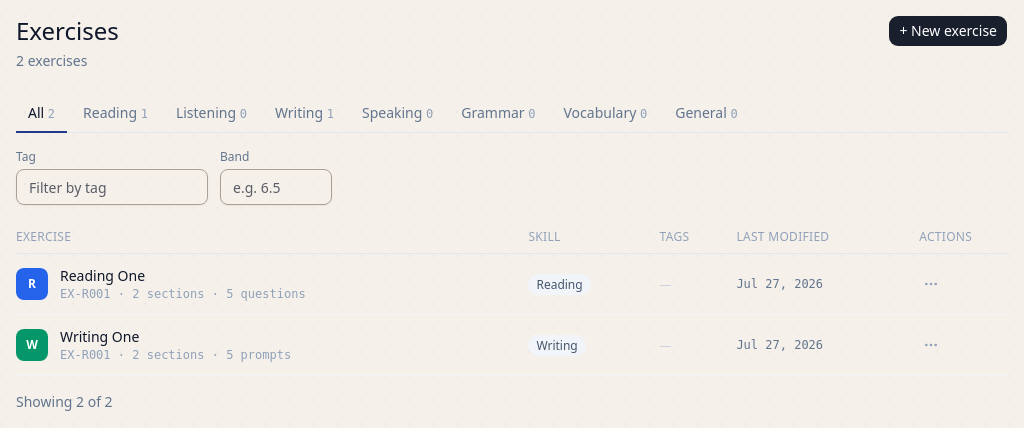
Test: ExerciseLibraryPage — filters + pagination (AC2) › selecting a skill tab narrows the table
The width and height of the screenshot is (1024, 428).
Expected: the button "Reading One" is shown, [60,266,145,286]
Expected: the button "Writing One" is shown, [60,327,139,347]
Click the button with test id "exercise-skill-tab-writing": (304, 114) [263,95,346,133]
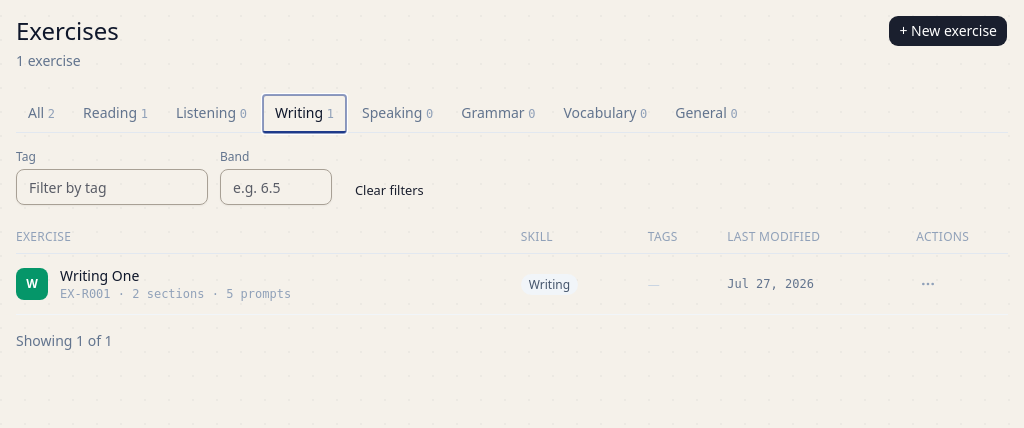
Expected: the button "Writing One" is shown, [60,266,139,286]
Expected: the button "Reading One" is gone
